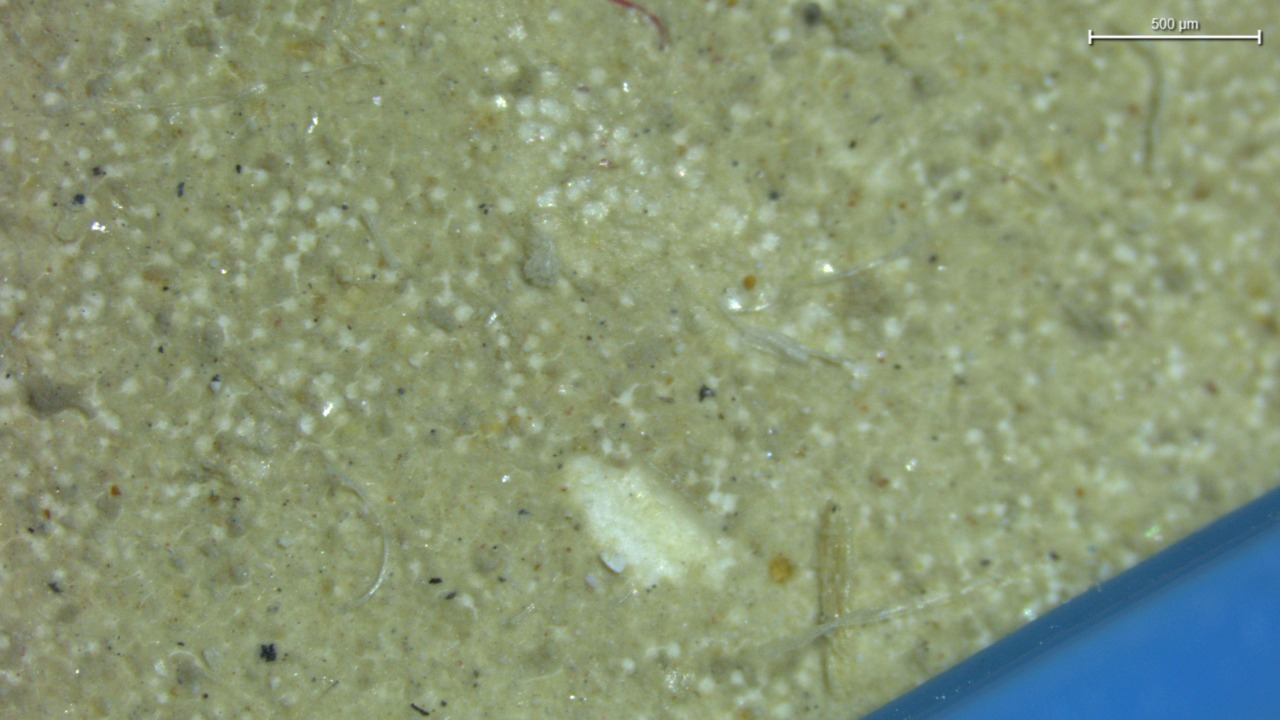microplastic_fragment: (521, 227, 562, 287), (600, 552, 626, 574)
